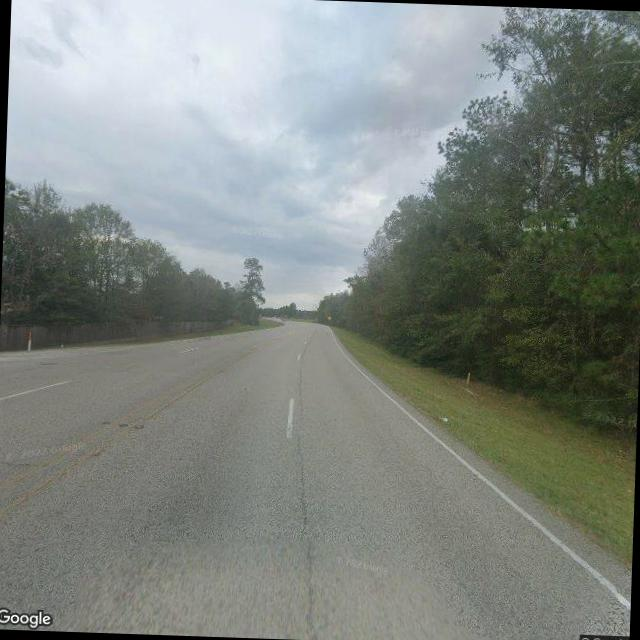pothole: (282, 429, 328, 638)
